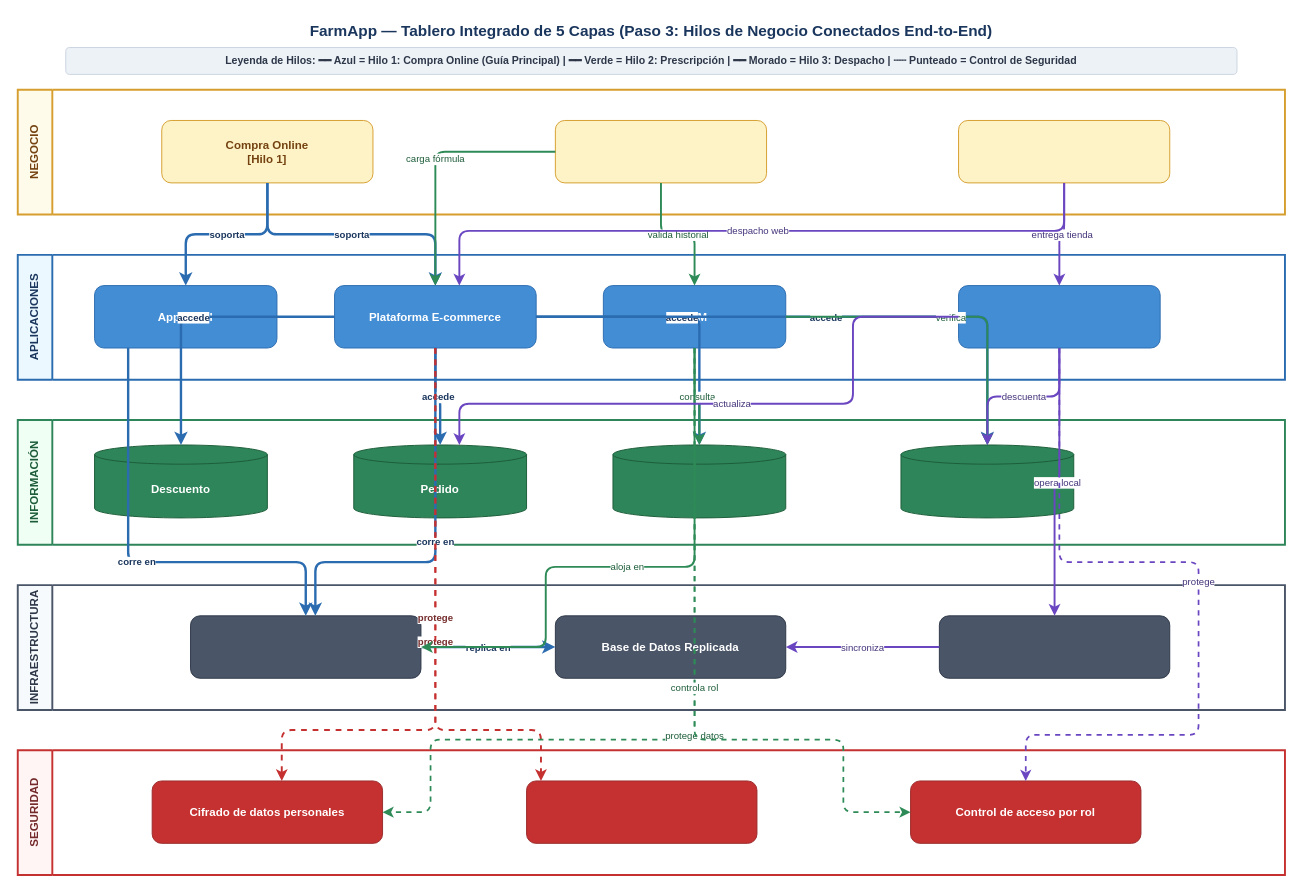
This 1302x892 diagram has some shape labels left out. The shapes that lost their labels are listed below. From the top down, each one's centre as x and y in pixels, then its label:
At [660,151]: "Prescripción [Hilo 2]".
At [1064,151]: "Despacho [Hilo 3]".
At [1059,316]: "Sistema POS".
At [699,481]: "Cliente".
At [987,481]: "Producto".
At [305,646]: "Nube Híbrida".
At [1054,646]: "Servidores Regionales".
At [641,811]: "Monitoreo de fraude".
